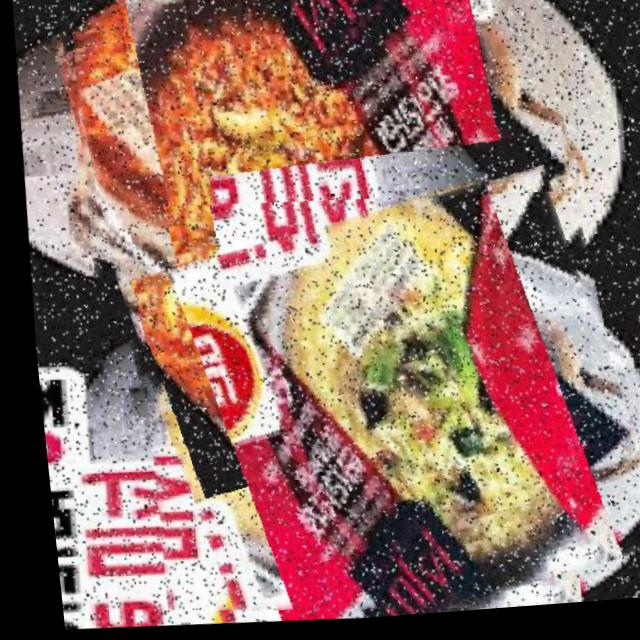Miscellaneous: (108, 180, 640, 634), (53, 0, 600, 425)
